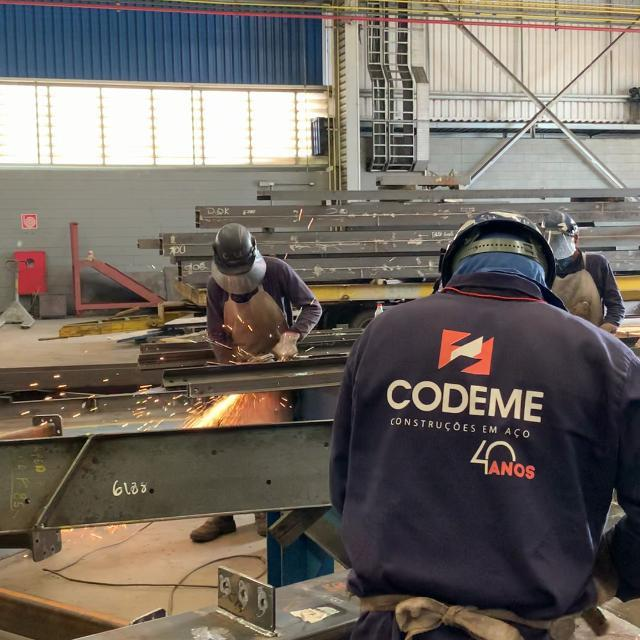eye-glass: (210, 251, 269, 297), (541, 232, 575, 262)
face-shield: (272, 329, 301, 359), (600, 322, 618, 334)
glove: (438, 209, 555, 292), (212, 222, 258, 267), (541, 211, 580, 231)
mask: (328, 210, 637, 619), (205, 222, 325, 362), (540, 212, 629, 333)
